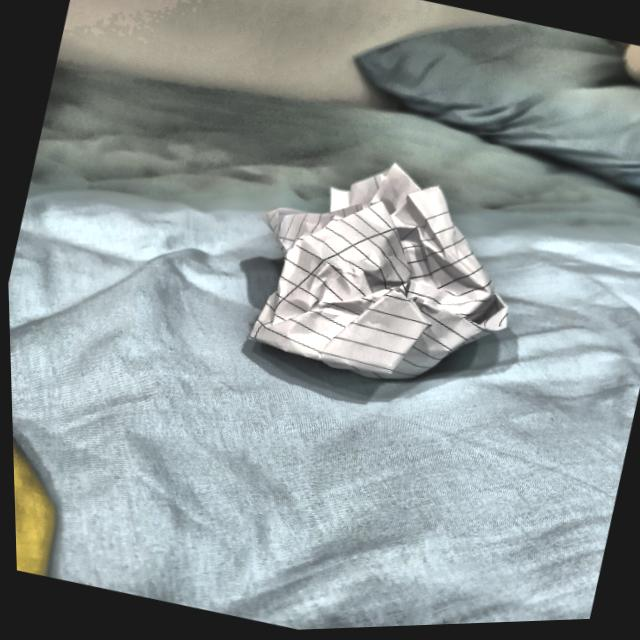Paper: (226, 140, 530, 413)
